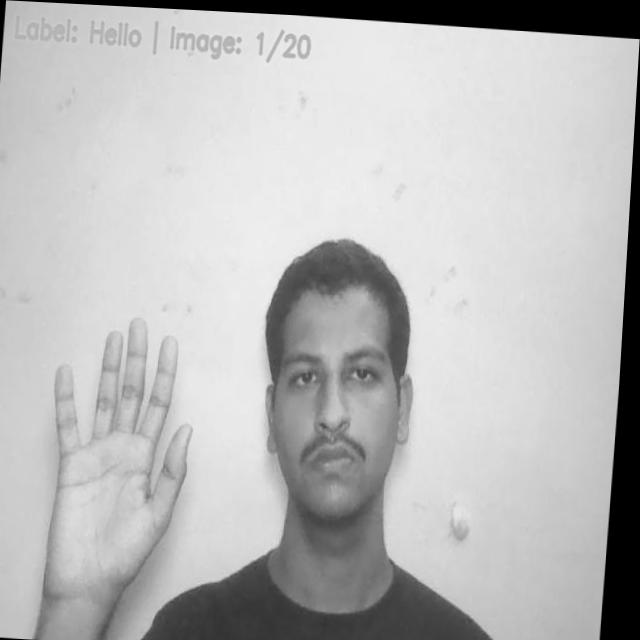Hello: (39, 305, 207, 589)
